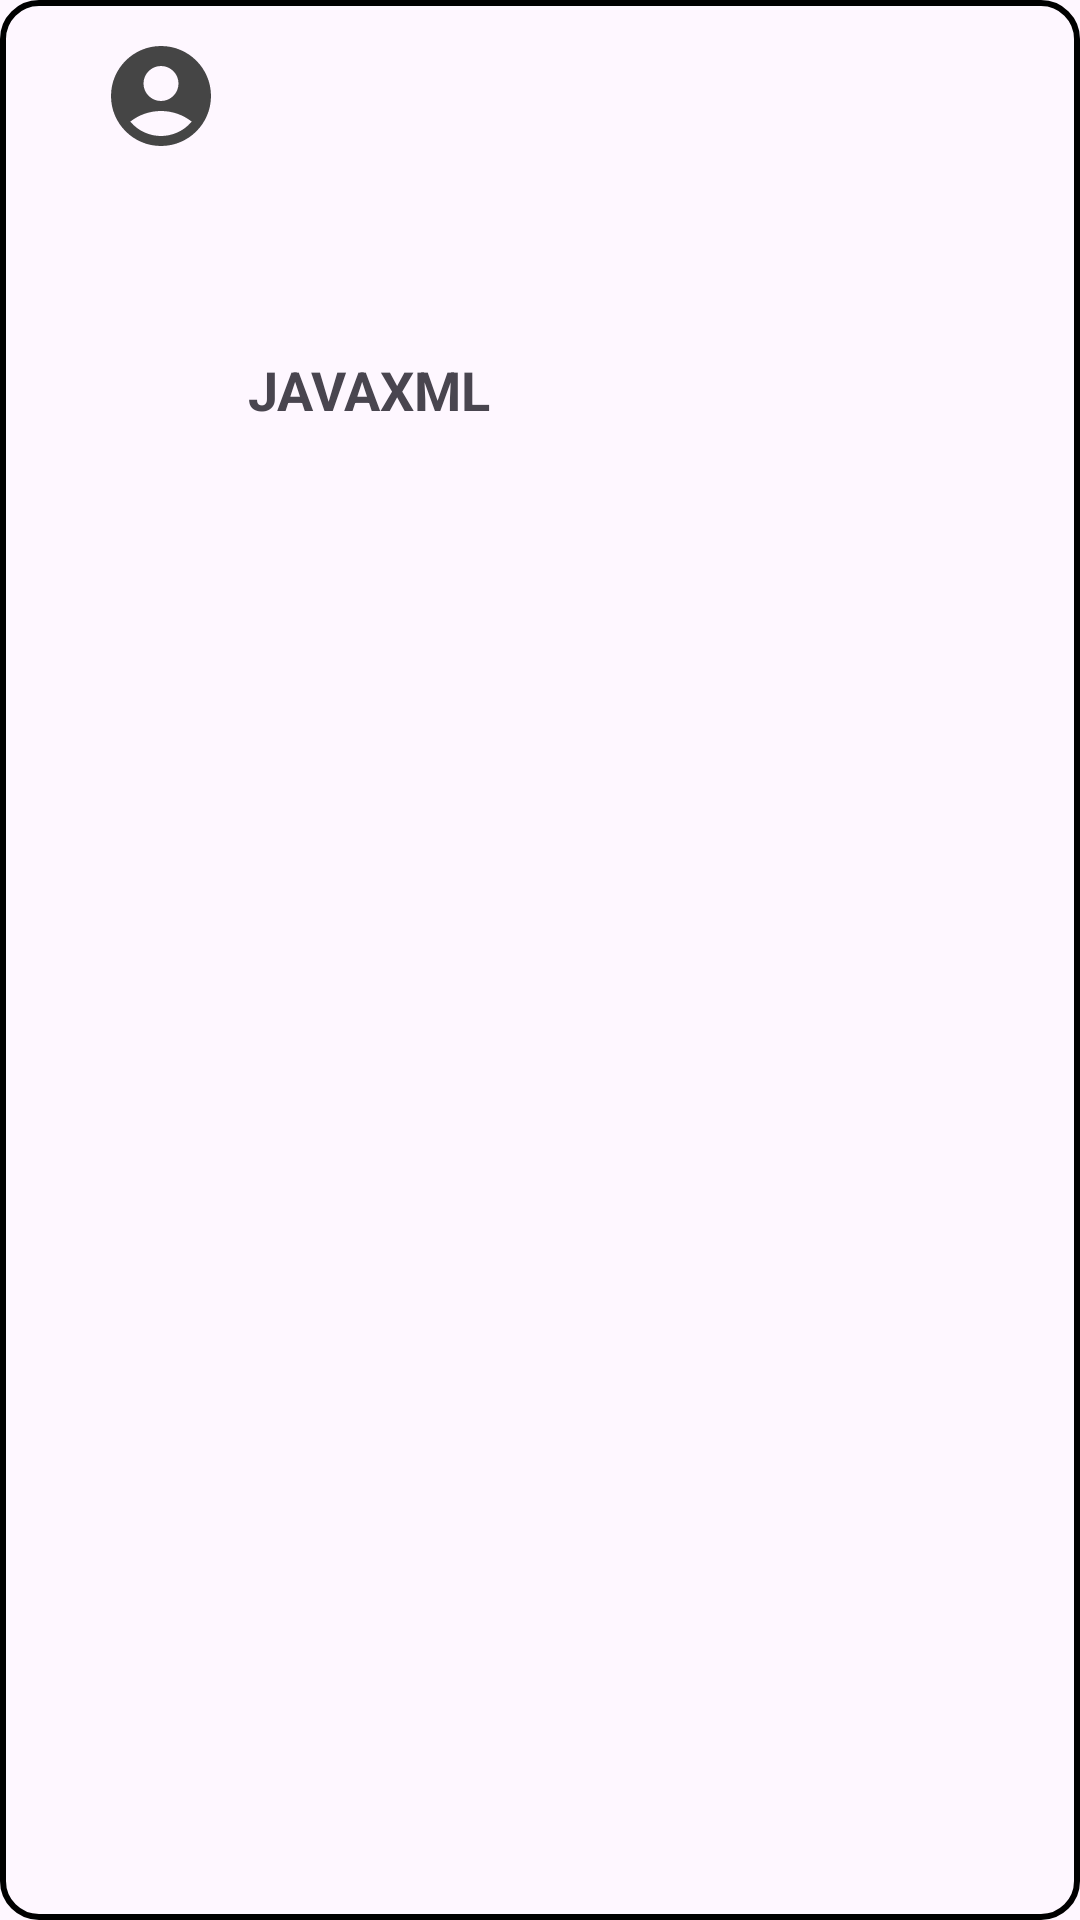

Icons on this 1080w x 1920h Android screen, each with its box as (x1, y1, x2, y2):
account circle: (111, 46, 211, 146)
